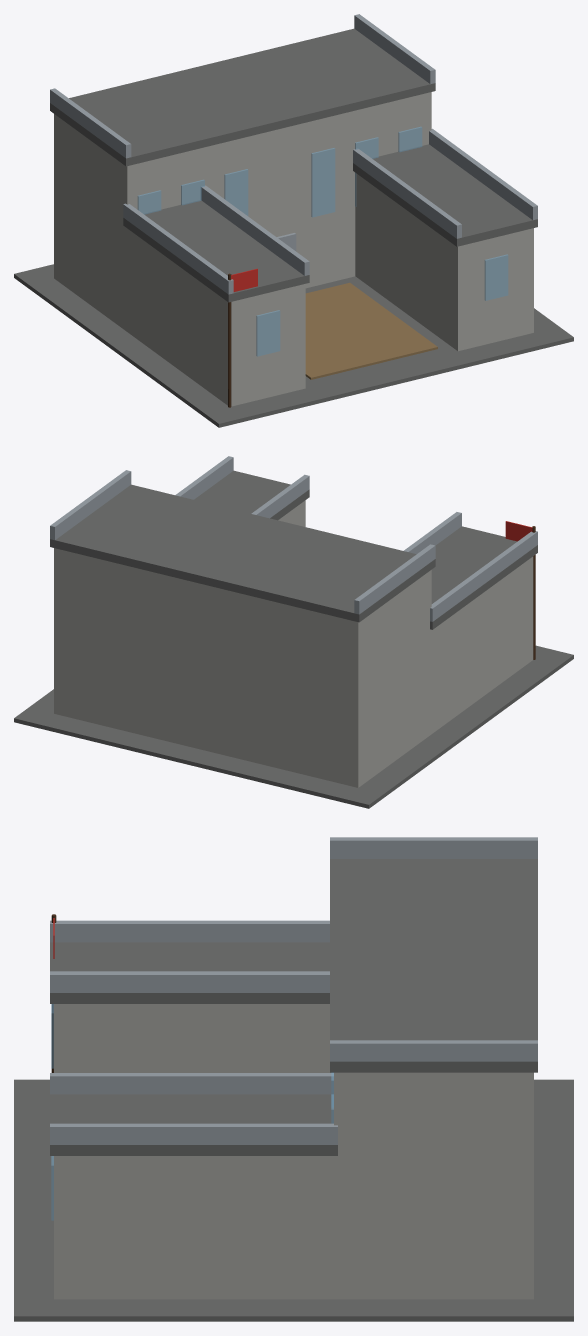
Rendered from bld_special_barracks_a06_lod1.glb.
The picture shows the model from 3 angles, top to bottom: view 1: azimuth 30°, elevation 25°; view 2: azimuth 150°, elevation 25°; view 3: azimuth 270°, elevation 25°; orthographic projection. The views are drawn at different scales.
Visible parts, largest first — view 1: body; view 2: body; view 3: body.
Boxes of the visible parts, left/top/right/bottom form: body: left=14, top=14, right=573, bottom=427; body: left=14, top=456, right=573, bottom=808; body: left=14, top=837, right=573, bottom=1321.
Size of the model in its own units: 14 by 7.25 by 14.
